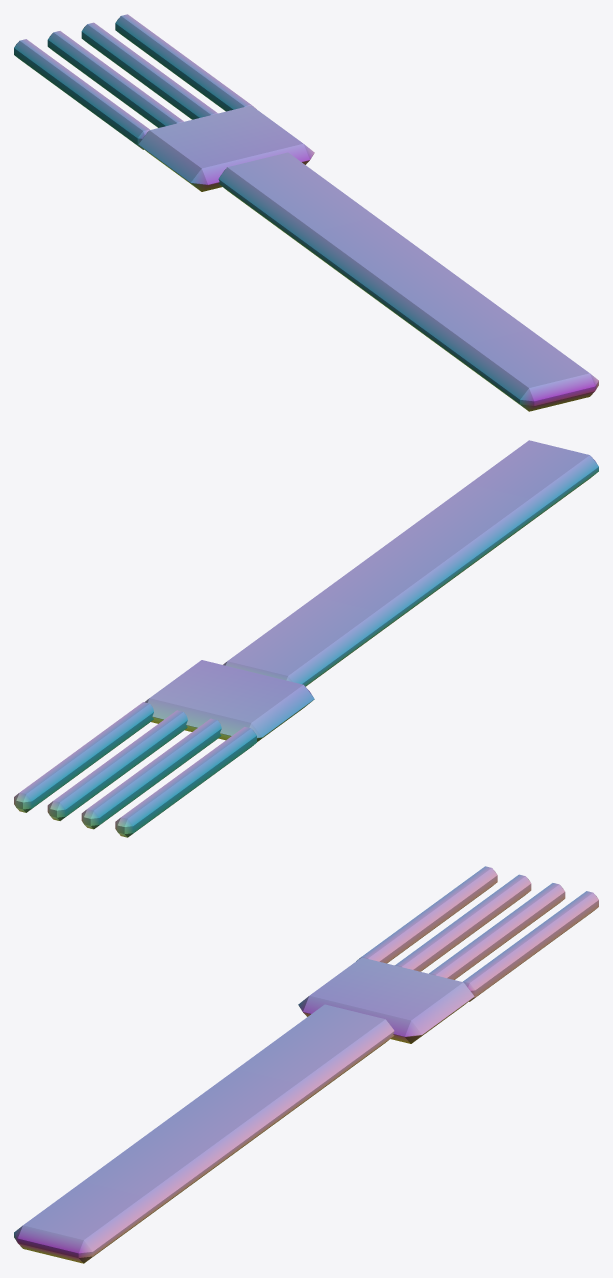
Rendered from env_deco_fork.glb.
3 renders of one model, top to bottom at view 1: azimuth 30°, elevation 25°; view 2: azimuth 150°, elevation 25°; view 3: azimuth 330°, elevation 25°, orthographic.
Parts seen in each view (by area): view 1: env_deco_fork_mesh; view 2: env_deco_fork_mesh; view 3: env_deco_fork_mesh.
Boxes of the visible parts, bbox=[...] form: env_deco_fork_mesh: bbox=[14, 14, 598, 411]; env_deco_fork_mesh: bbox=[14, 440, 598, 837]; env_deco_fork_mesh: bbox=[14, 866, 598, 1263].
Size of the model in its own units: 0.11 by 0.02 by 0.76.
